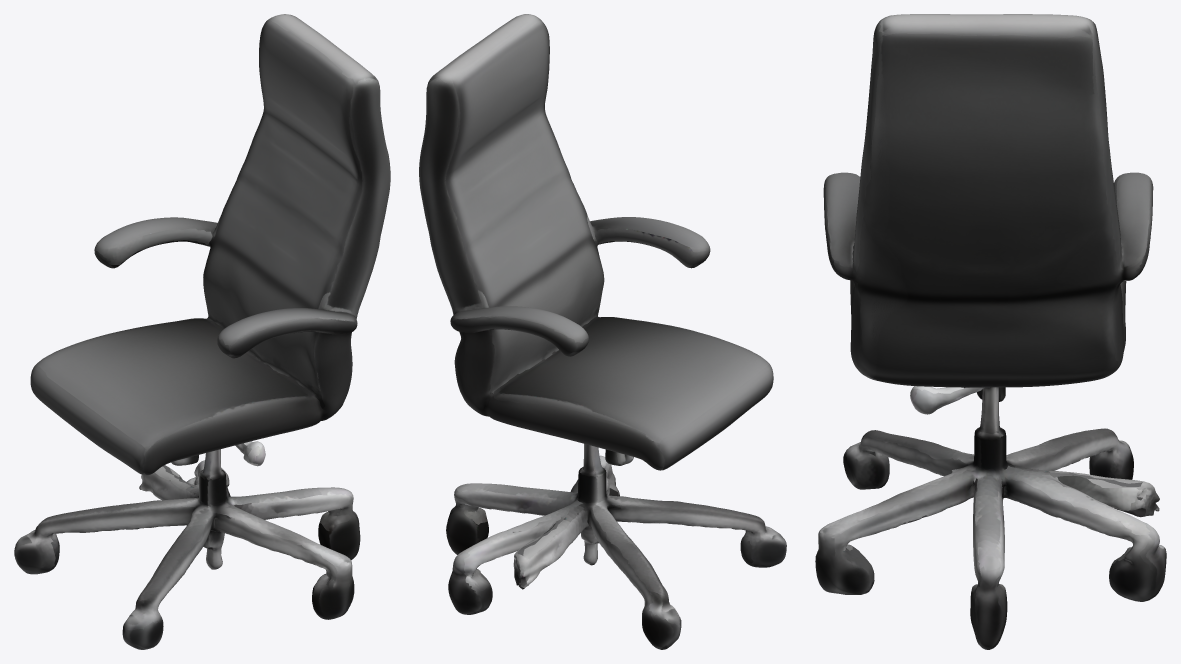
File: chair.fbx
3 renders of one model, left to right at view 1: azimuth 30°, elevation 25°; view 2: azimuth 150°, elevation 25°; view 3: azimuth 270°, elevation 25°, orthographic. The views are drawn at different scales.
Parts seen in each view (by area): view 1: tmpi6gnpb1p.ply; view 2: tmpi6gnpb1p.ply; view 3: tmpi6gnpb1p.ply.
Part boxes in pixels (x1,y1,x2,y2): tmpi6gnpb1p.ply: (14, 14, 390, 649); tmpi6gnpb1p.ply: (419, 14, 786, 649); tmpi6gnpb1p.ply: (815, 14, 1166, 649).
Size of the model in its own units: 56.87 by 98.81 by 51.01.
Materials: 1 (1 with a texture image).
